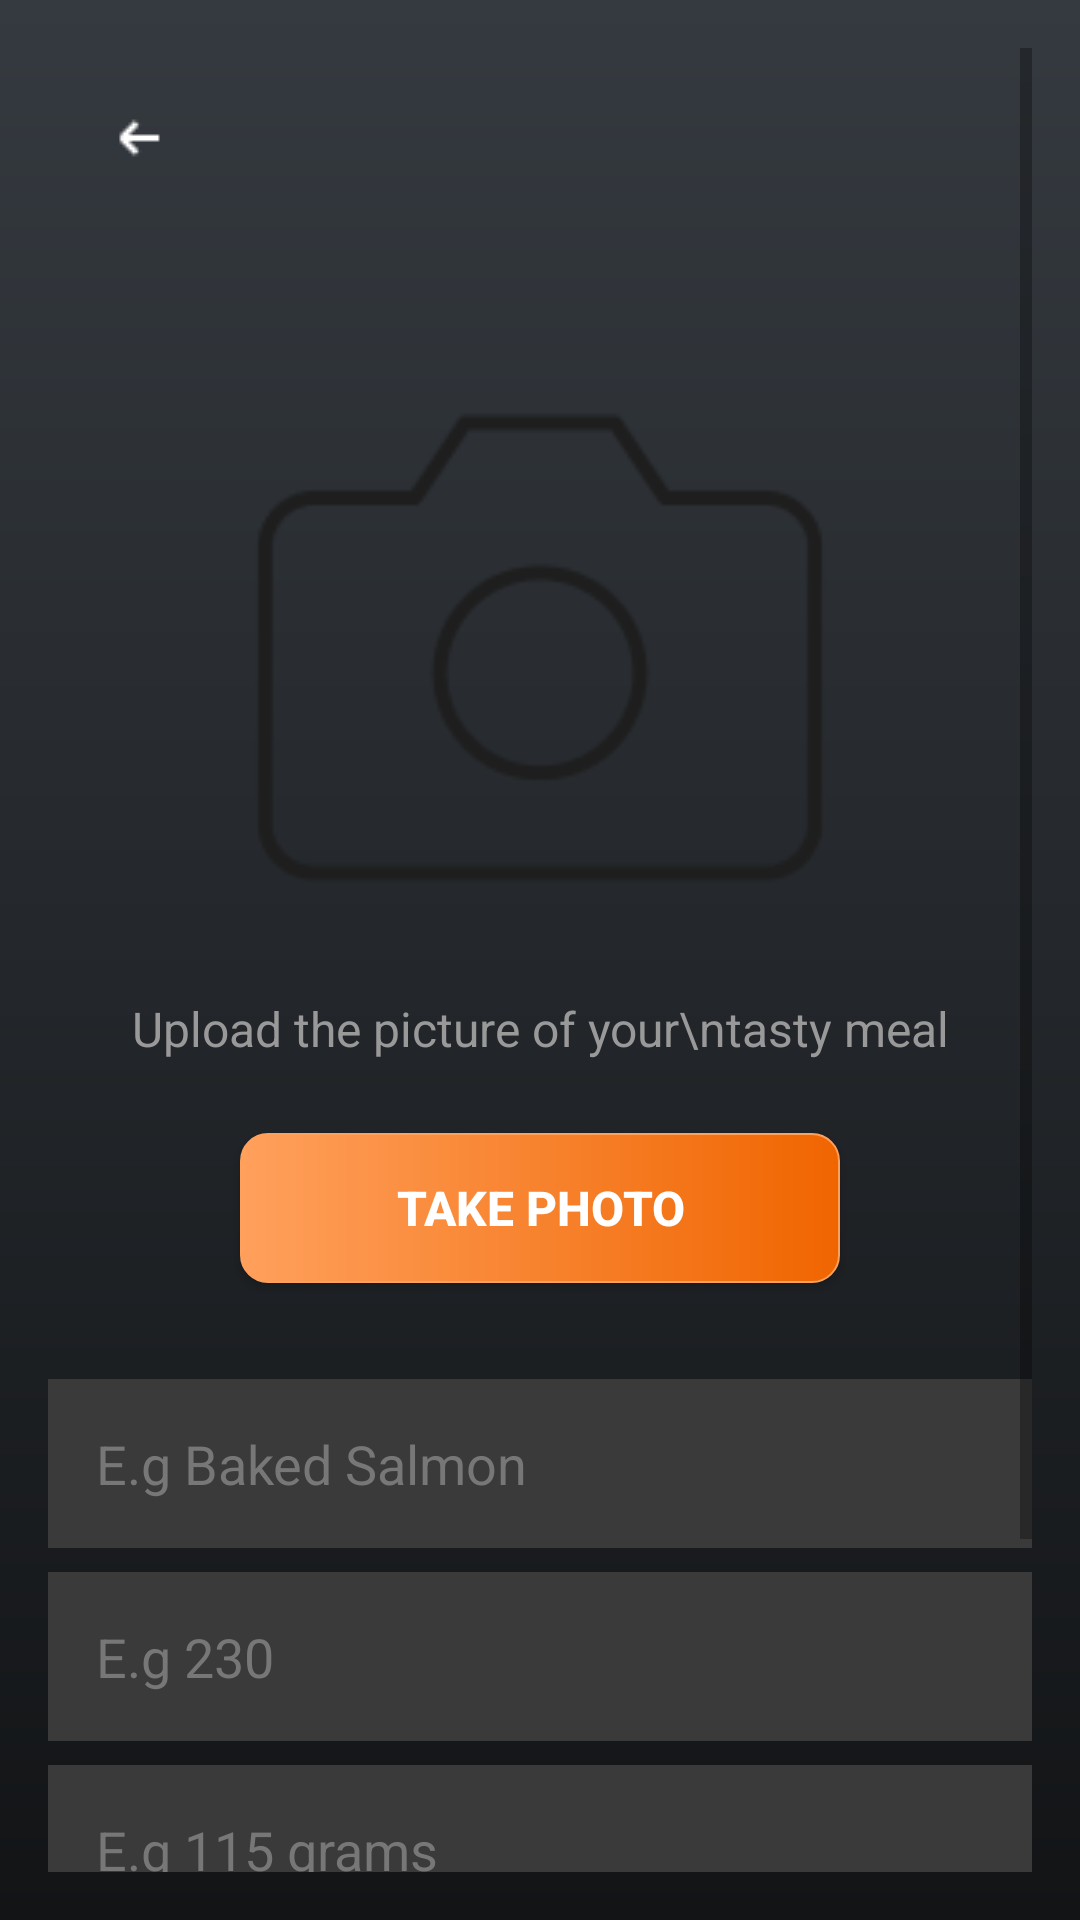

Icons on this 1080x1920 Android screen, each with its box as (x1, y1, x2, y2):
Back: (119, 119, 160, 156)
